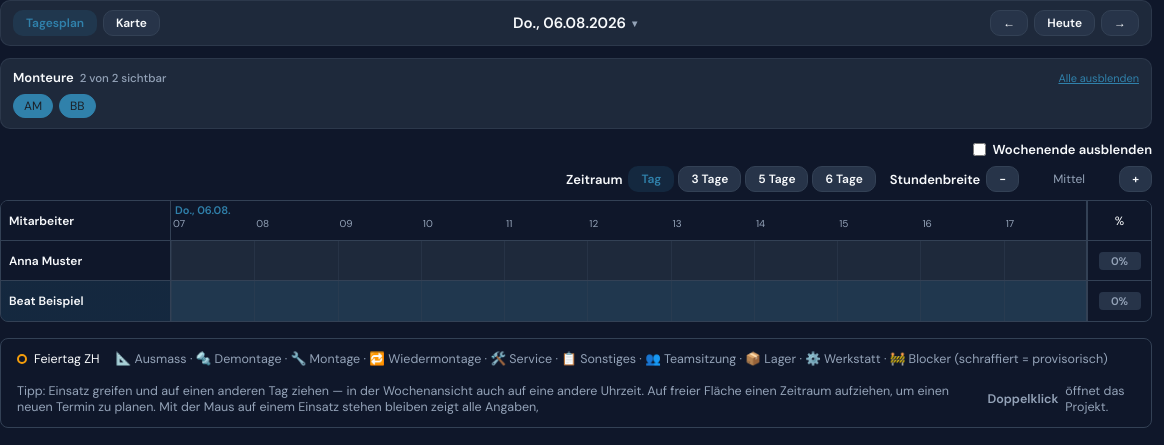
Test: Tagesplan (Gantt) › navigiert tageweise und im gewählten Zeitraum
This screenshot has width=1164, height=445.
Expected: the button "Do., 06.08.2026 ▾" is shown, x1=502 y1=9 x2=648 y2=37
Step 1. Click the button "→" → (1120, 23), box x1=1101 y1=10 x2=1139 y2=36
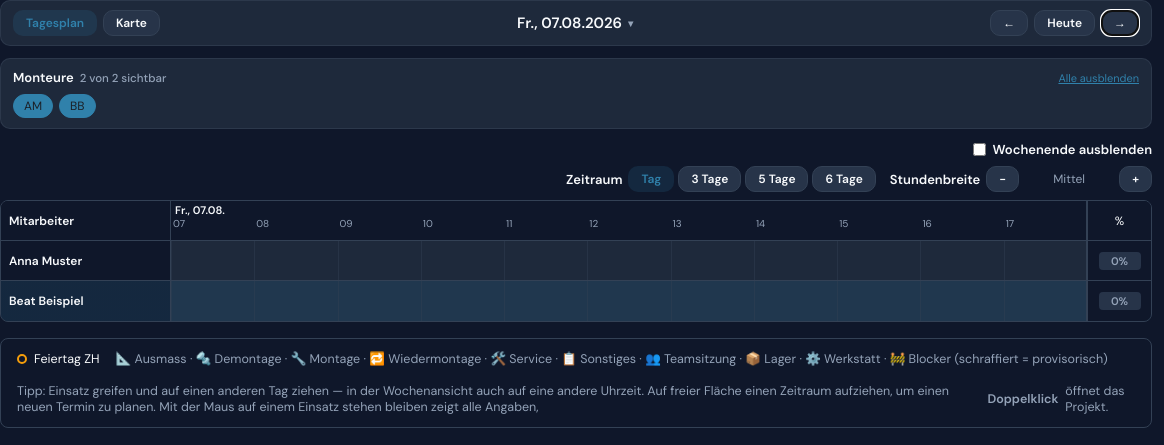
Now the button "Fr., 07.08.2026 ▾" is shown, box x1=506 y1=9 x2=644 y2=37
Step 2. Click the button "3 Tage" → (710, 179), box x1=678 y1=166 x2=741 y2=192
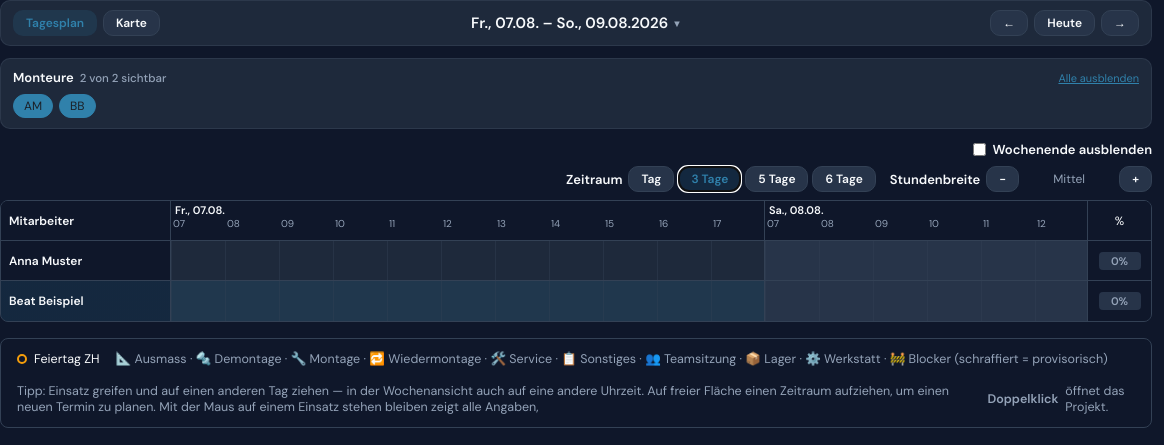
Note: Weiter geht es jetzt in Drei-Tages-Schritten.
Step 3. Click the button "→" → (1120, 23), box x1=1101 y1=10 x2=1139 y2=36
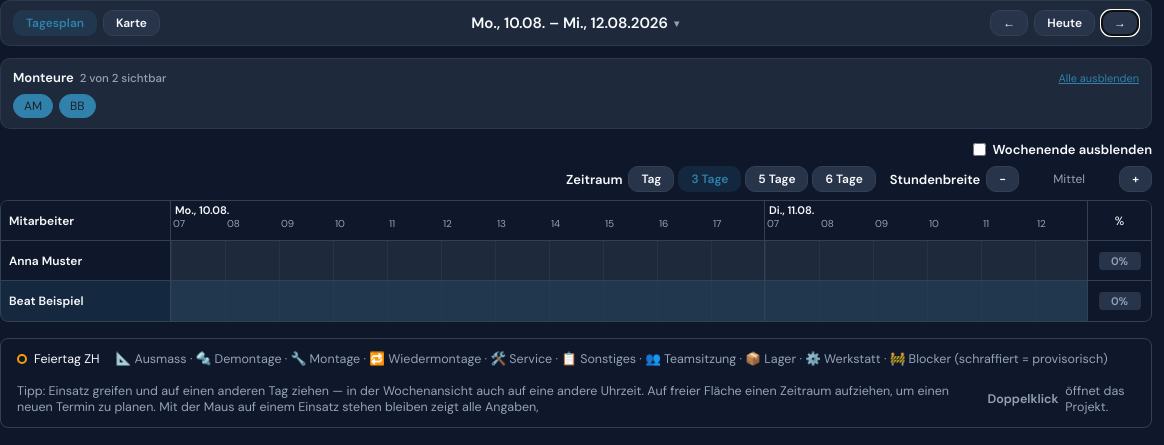
Now the button "Mo., 10.08. – Mi., 12.08.2026 ▾" is shown, box x1=460 y1=9 x2=690 y2=37
